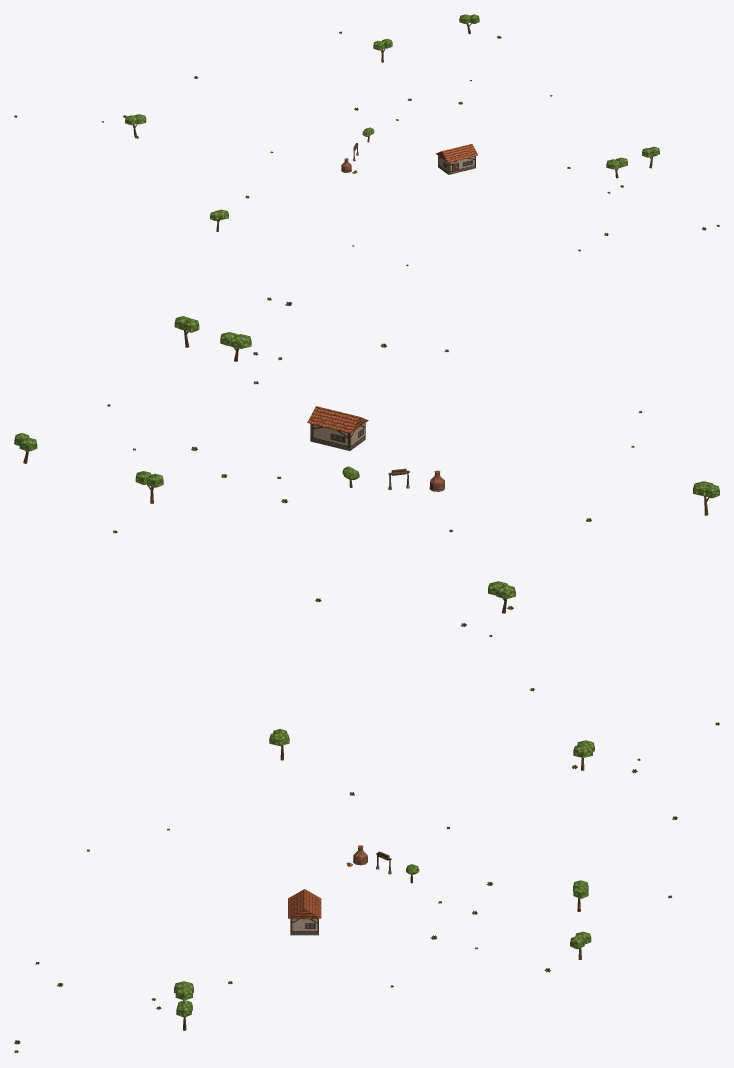
The model's file is FieldCell_4_1.fbx.
3 renders of one model, top to bottom at view 1: azimuth 30°, elevation 25°; view 2: azimuth 150°, elevation 25°; view 3: azimuth 270°, elevation 25°, orthographic. The views are drawn at different scales.
Visible parts, largest first — view 1: FieldCell_4_1; view 2: FieldCell_4_1; view 3: FieldCell_4_1.
Boxes of the visible parts, bbox=[...] form: FieldCell_4_1: bbox=[125, 14, 659, 231]; FieldCell_4_1: bbox=[14, 316, 719, 613]; FieldCell_4_1: bbox=[174, 729, 594, 1030].
Bounding box in the file's own units: 14963 × 2195 × 15154.
